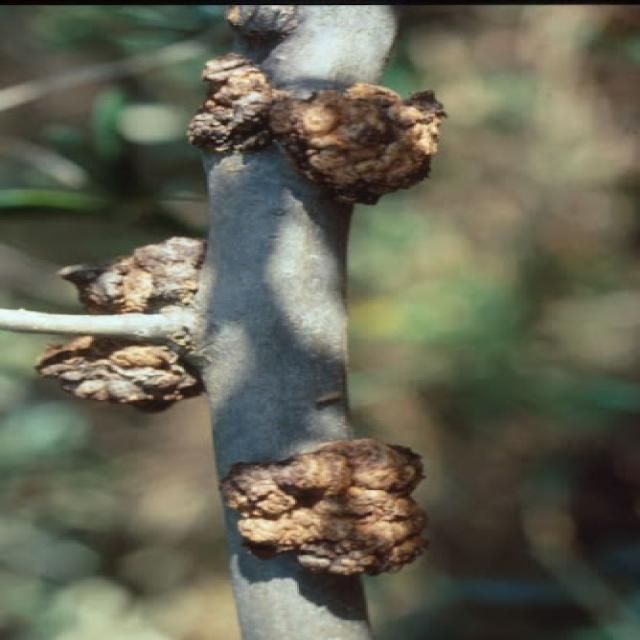Tuberculosis: (186, 52, 444, 206), (220, 438, 428, 576), (38, 336, 203, 412), (60, 240, 204, 313)
